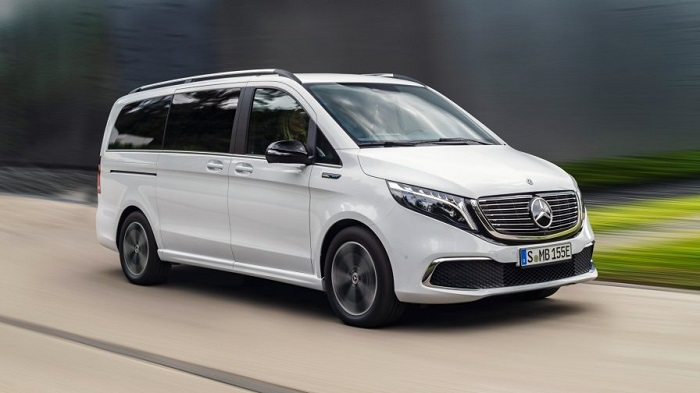van: (89, 66, 602, 330)
